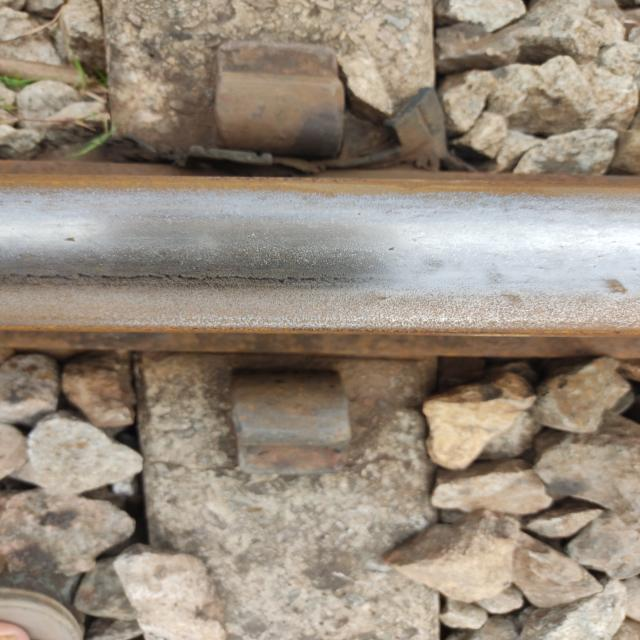defective: (152, 66, 468, 484)
